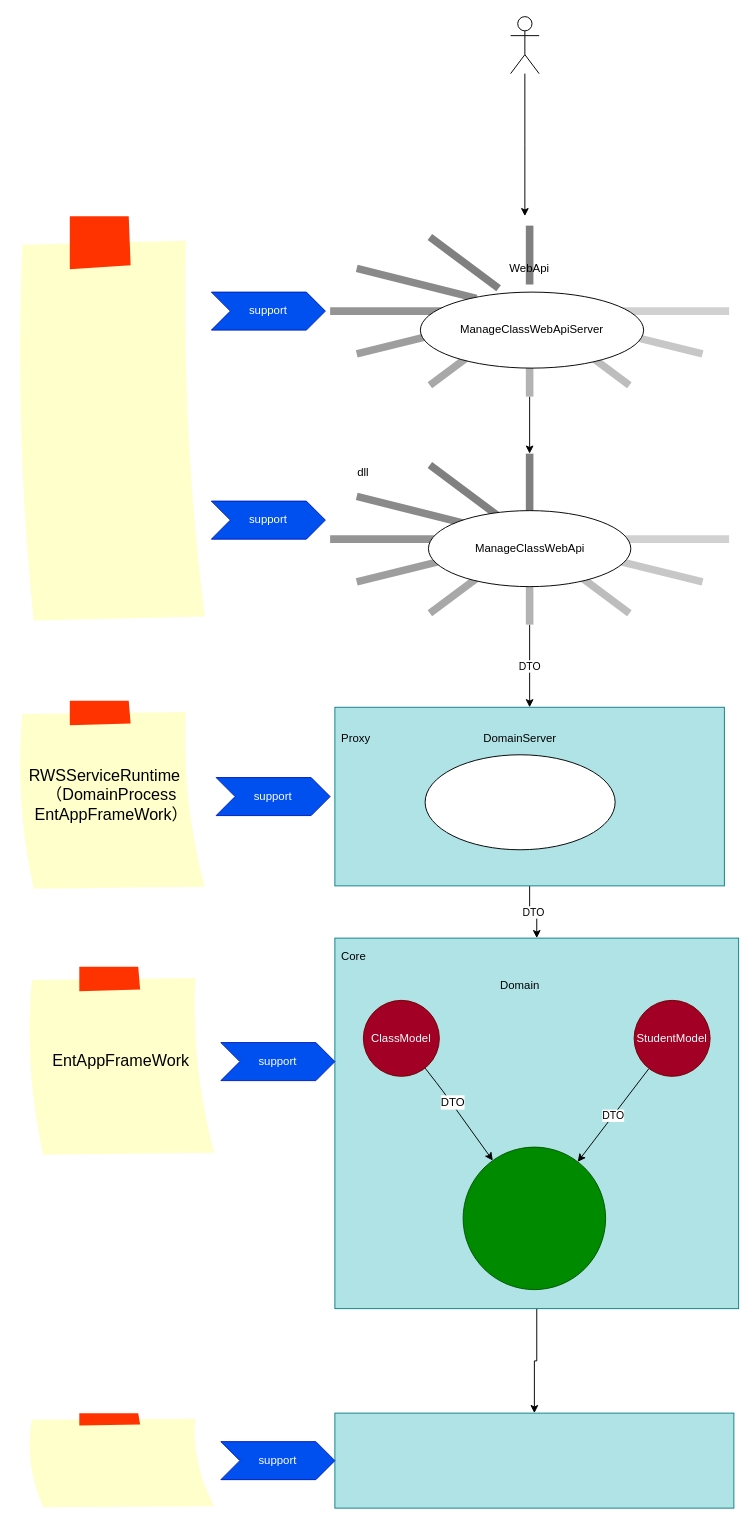
Some shapes in this 755 by 1525 pixel diagram are drawn without their labels. Here are the shapes that lost their labels. From the top down, the box of each, then its label:
(510, 16, 539, 74): Actor
(16, 215, 207, 625): WebApiCommon
(424, 754, 615, 850): ManageClassDomainServer
(462, 1146, 606, 1290): ClassModel.Service.Impl
(25, 1412, 216, 1508): MSSQL
(334, 1412, 734, 1508): DataBase
